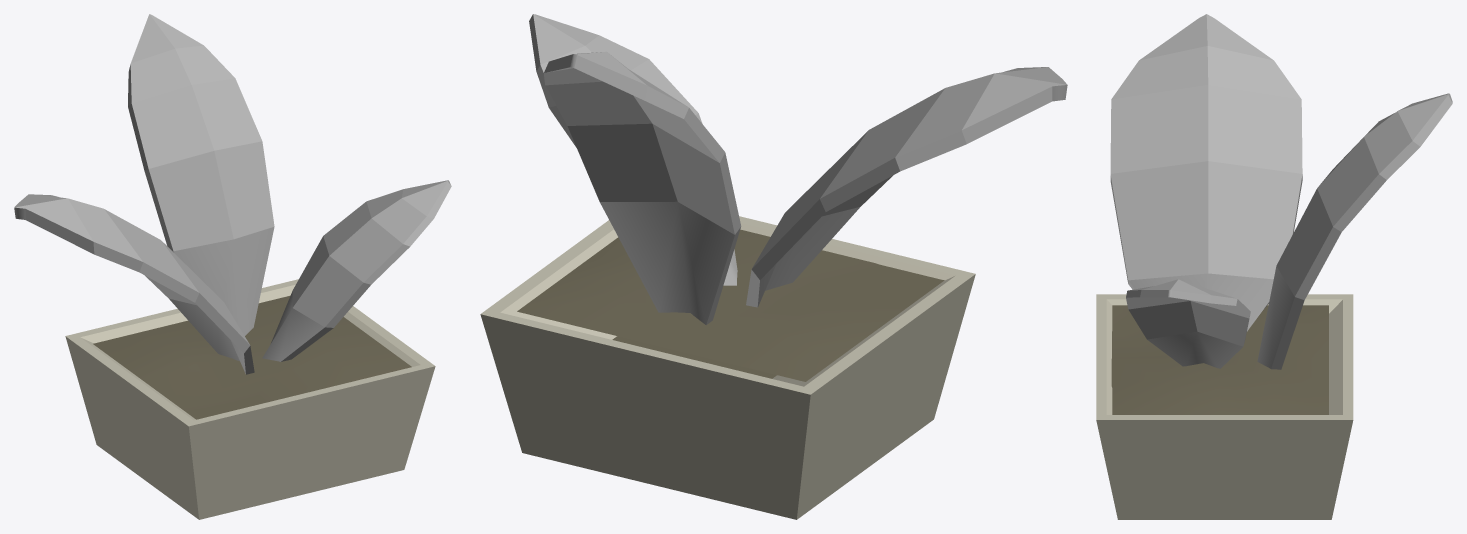
File: Planta.FBX
The picture shows the model from 3 angles, left to right: view 1: azimuth 30°, elevation 25°; view 2: azimuth 150°, elevation 25°; view 3: azimuth 270°, elevation 25°; orthographic projection. The views are drawn at different scales.
Visible parts, largest first — view 1: Plane003; view 2: Plane003; view 3: Plane003.
Boxes of the visible parts, x1,y1,x2,y2 form: Plane003: [14, 14, 451, 519]; Plane003: [480, 14, 1067, 519]; Plane003: [1096, 14, 1452, 519].
Size of the model in its own units: 165 by 137 by 117.
